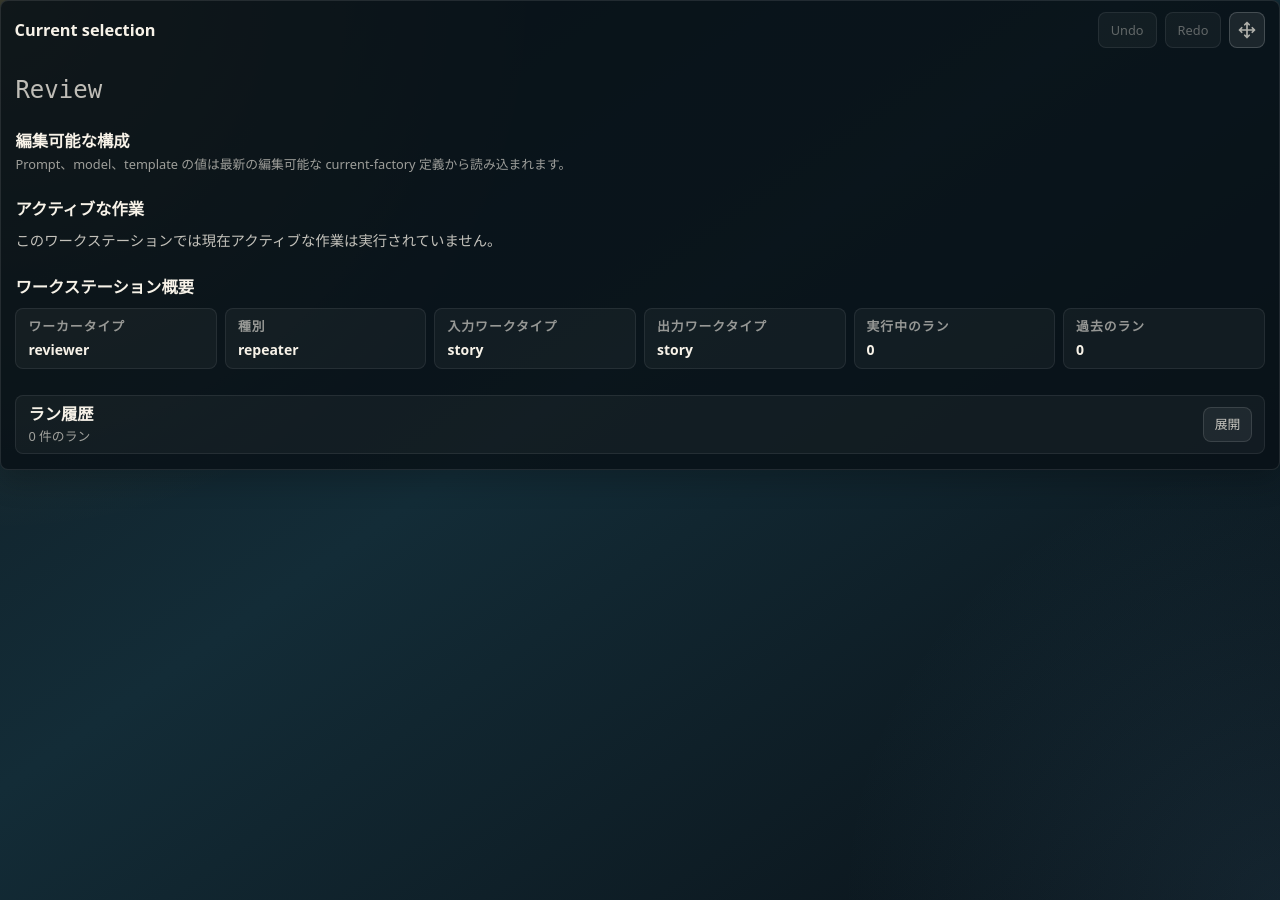
Scenario: WorkstationDetailCard › renders workstation-detail copy from the requested locale when provided
Expected: the heading "アクティブな作業" is shown, top-left (15, 198), bottom-right (144, 220)
Expected: the heading "ワークステーション概要" is shown, top-left (15, 276), bottom-right (194, 298)
Click the button "展開" at [1227, 424], box top-left (1203, 407), bottom-right (1252, 442)
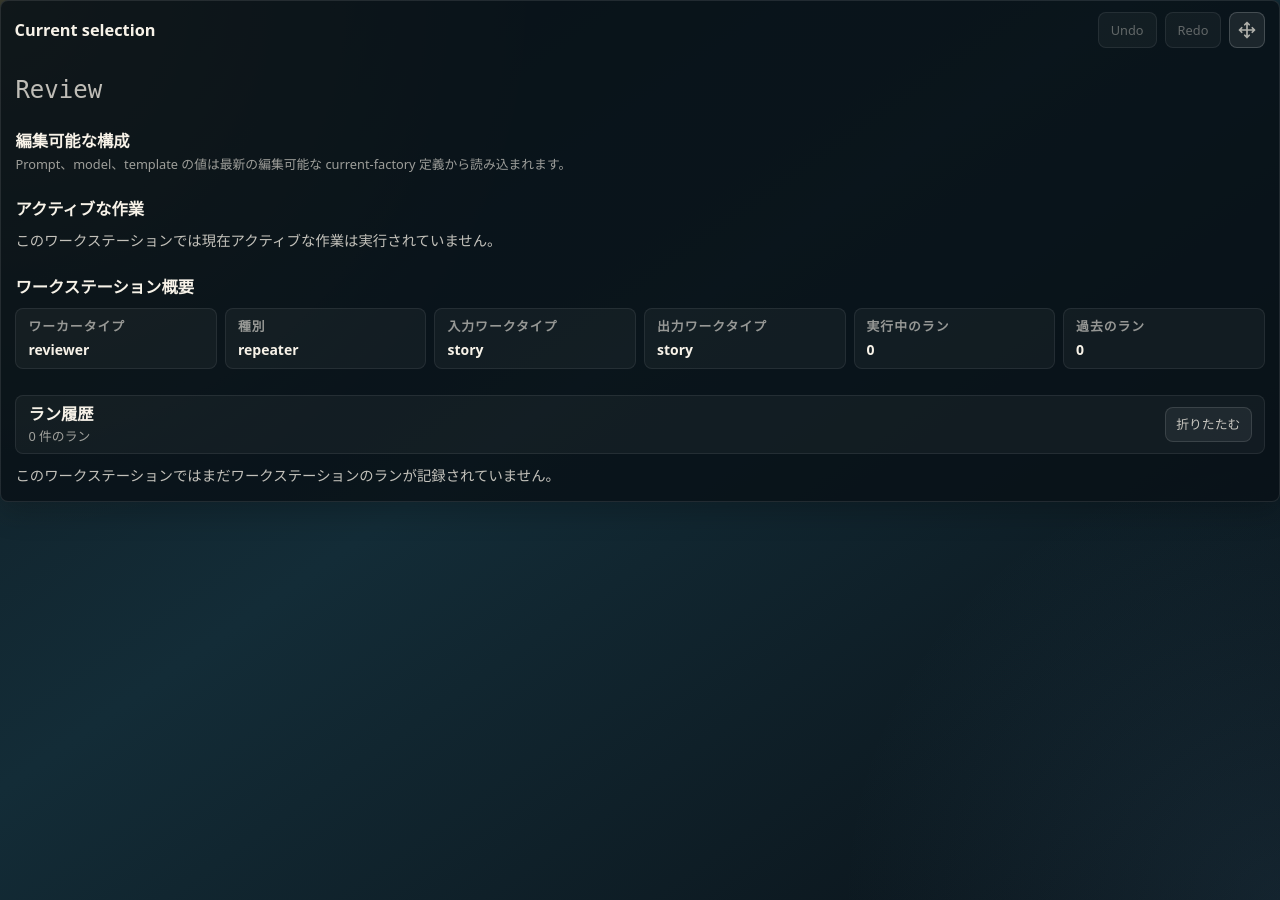
Expected: the text "0 件のラン" is shown, top-left (28, 427), bottom-right (94, 445)
Now the text "このワークステーションではまだワークステーションのランが記録されていません。" is shown, box top-left (15, 466), bottom-right (560, 485)
